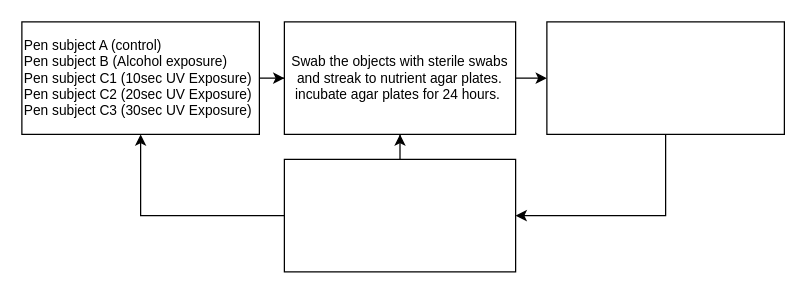
Image size: 806x294. Some labels were removed from this diagram. The centre of each missing label's shape, as x and y in pixels:
Feedback: point (399, 215)
Microbial growth of microorganisms on agar plates: point (665, 77)
